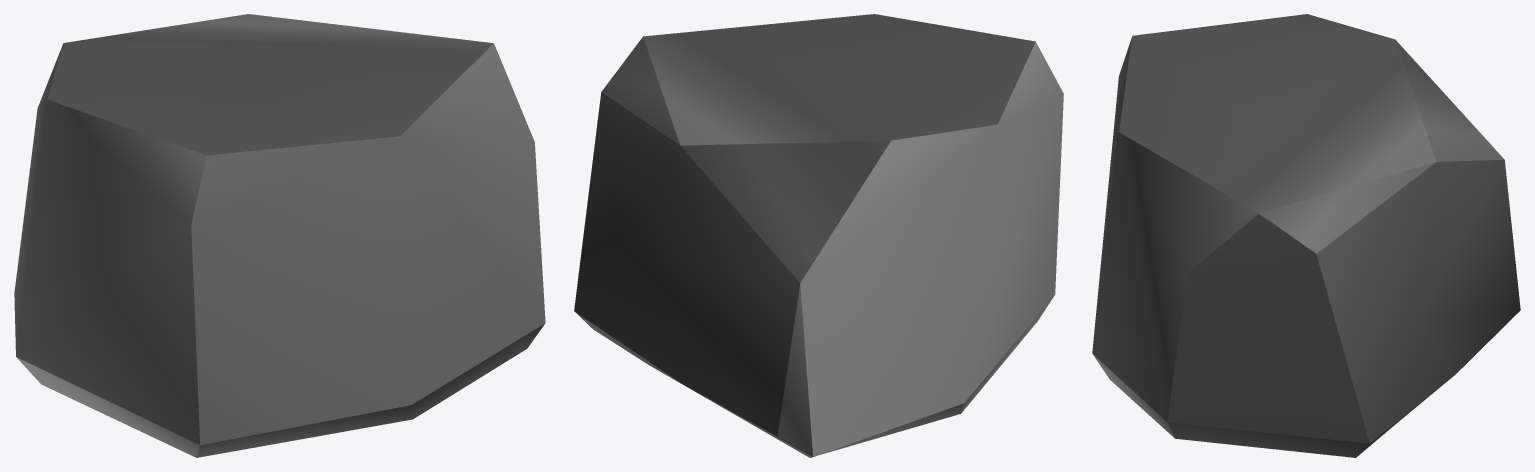
Rendered from rock_02.fbx.
3 renders of one model, left to right at view 1: azimuth 30°, elevation 25°; view 2: azimuth 150°, elevation 25°; view 3: azimuth 270°, elevation 25°, orthographic. The views are drawn at different scales.
Visible parts, largest first — view 1: rock_02; view 2: rock_02; view 3: rock_02.
Part boxes in pixels (left/top/right/bottom): rock_02: left=14, top=14, right=545, bottom=457; rock_02: left=574, top=14, right=1063, bottom=457; rock_02: left=1092, top=14, right=1520, bottom=457.
Bounding box in the file's own units: 58.33 × 42.83 × 57.71.
